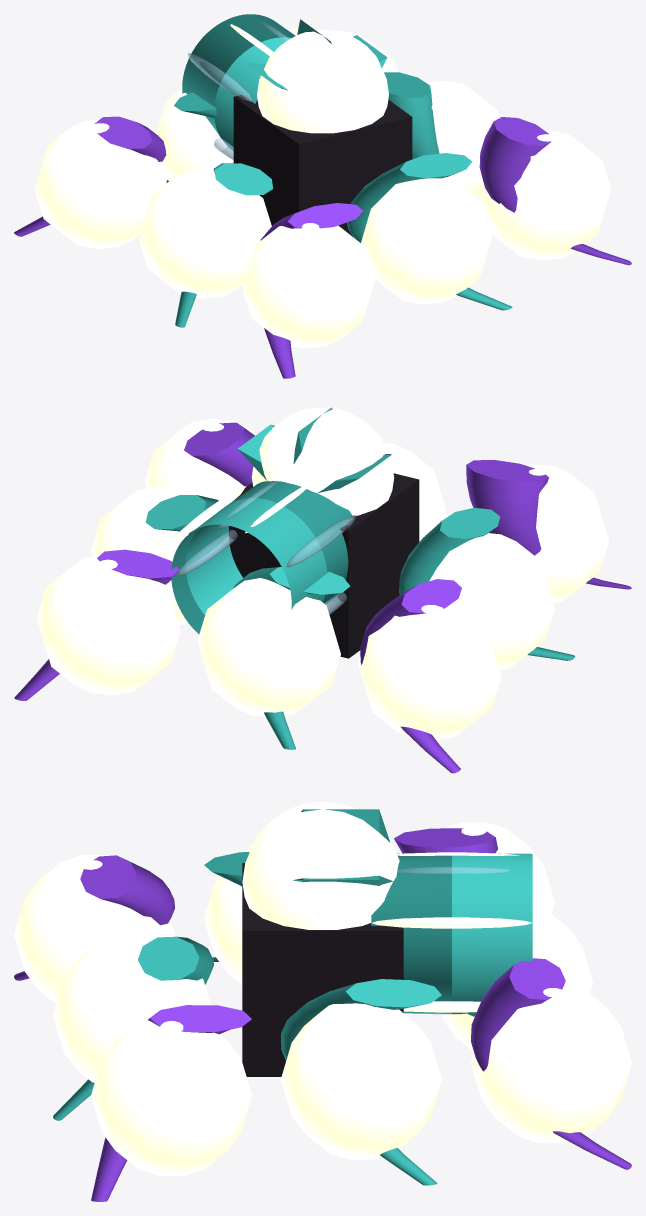
File: voraxia.glb
3 renders of one model, top to bottom at view 1: azimuth 30°, elevation 25°; view 2: azimuth 150°, elevation 25°; view 3: azimuth 270°, elevation 25°, orthographic. The views are drawn at different scales.
Parts seen in each view (by area): view 1: boss_tentacule6, boss_tentacule5.001, boss_tentacule7, boss_tentacule4.001, boss_tentacule3.001, boss_tete.001, boss_coeur.001, boss_halo.001, boss_tentacule0.001, boss_tentacule2.001; view 2: boss_tentacule3.001, boss_tentacule1.001, boss_tentacule2.001, boss_halo.001, boss_tentacule4.001, boss_tentacule5.001, boss_coeur.001, boss_tete.001, boss_tentacule7, boss_tentacule0.001, boss_tentacule6; view 3: boss_tentacule0.001, boss_tentacule1.001, boss_tentacule7, boss_halo.001, boss_coeur.001, boss_tete.001, boss_tentacule6, boss_tentacule5.001, boss_tentacule3.001, boss_tentacule4.001, boss_tentacule2.001.
Part boxes in pixels (x1,y1,x2,y2): boss_tentacule6: (347,153,512,310); boss_tentacule5.001: (242,203,375,378); boss_tentacule7: (478,117,631,265); boss_tentacule4.001: (139,163,273,327); boss_tentacule3.001: (14,116,167,248); boss_tete.001: (233,95,412,237); boss_coeur.001: (244,19,388,133); boss_halo.001: (182,14,297,159); boss_tentacule0.001: (384,72,500,197); boss_tentacule2.001: (156,88,233,182); boss_tentacule3.001: (358,579,501,773); boss_tentacule1.001: (14,549,180,700); boss_tentacule2.001: (197,567,350,749); boss_halo.001: (171,481,356,634); boss_tentacule4.001: (399,508,575,670); boss_tentacule5.001: (466,460,631,602); boss_coeur.001: (237,407,394,515); boss_tete.001: (228,473,419,658); boss_tentacule7: (144,419,256,500); boss_tentacule0.001: (91,486,218,625); boss_tentacule6: (383,443,447,541); boss_tentacule0.001: (281,979,441,1185); boss_tentacule1.001: (471,958,631,1169); boss_tentacule7: (91,1005,251,1201); boss_halo.001: (371,852,532,1014); boss_coeur.001: (242,802,399,929); boss_tete.001: (242,863,403,1076); boss_tentacule6: (53,935,213,1120); boss_tentacule5.001: (14,855,174,1003); boss_tentacule3.001: (394,822,554,913); boss_tentacule4.001: (204,845,252,984); boss_tentacule2.001: (441,905,592,1051).
Bounding box in the file's own units: 7.67 × 3.6 × 7.67.
